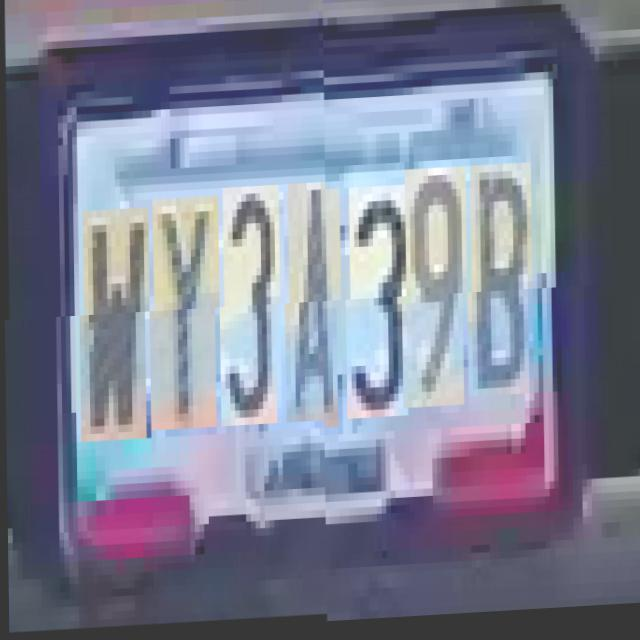3: (348, 190, 412, 422), (222, 196, 281, 437)
9: (404, 172, 467, 413)
A: (288, 193, 342, 433)
B: (470, 170, 532, 402)
W: (82, 217, 150, 450)
Y: (152, 206, 220, 440)
